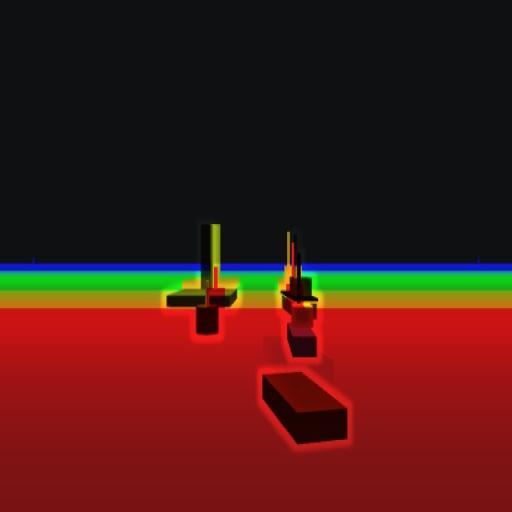platform: (164, 228, 237, 306)
